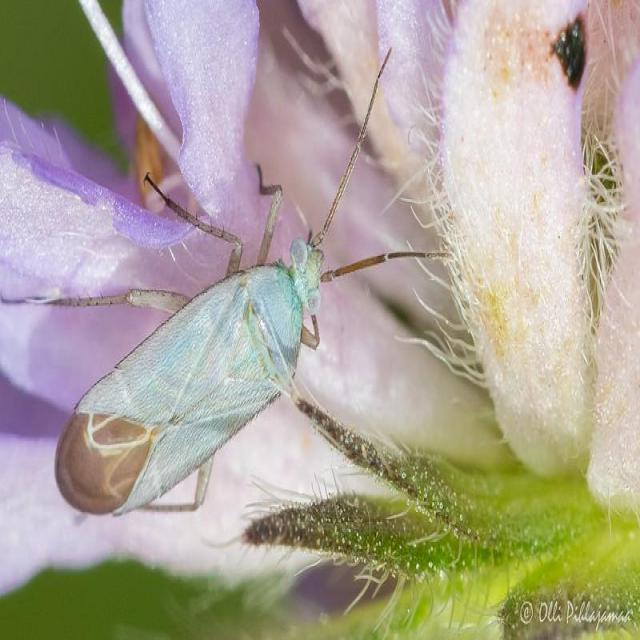Miridae-Adult-: (51, 50, 445, 531)
